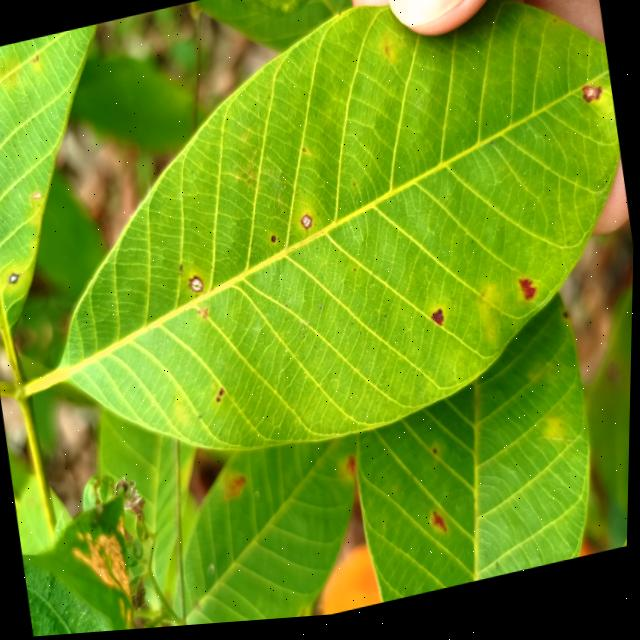Colletotrichum: (190, 278, 204, 297), (301, 219, 313, 235), (9, 274, 20, 285), (271, 240, 277, 247)
